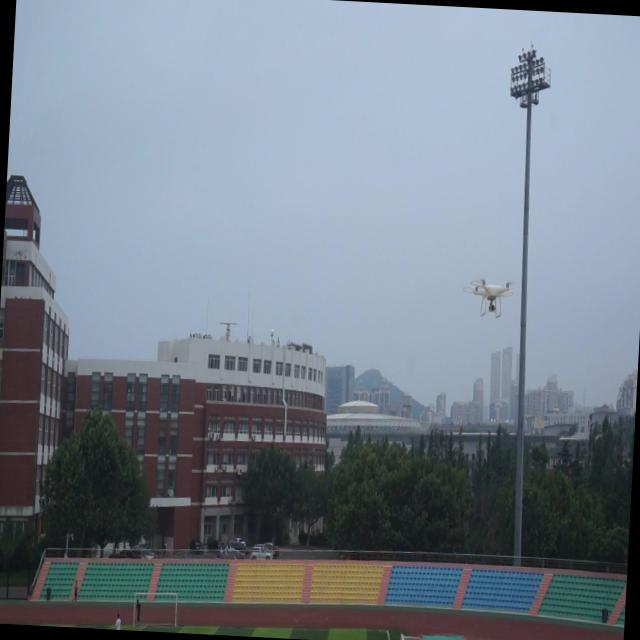drone: (460, 272, 518, 326)
